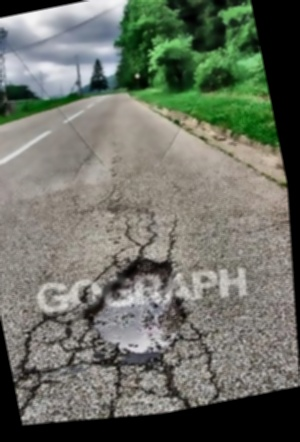pothole: (63, 239, 207, 383)
